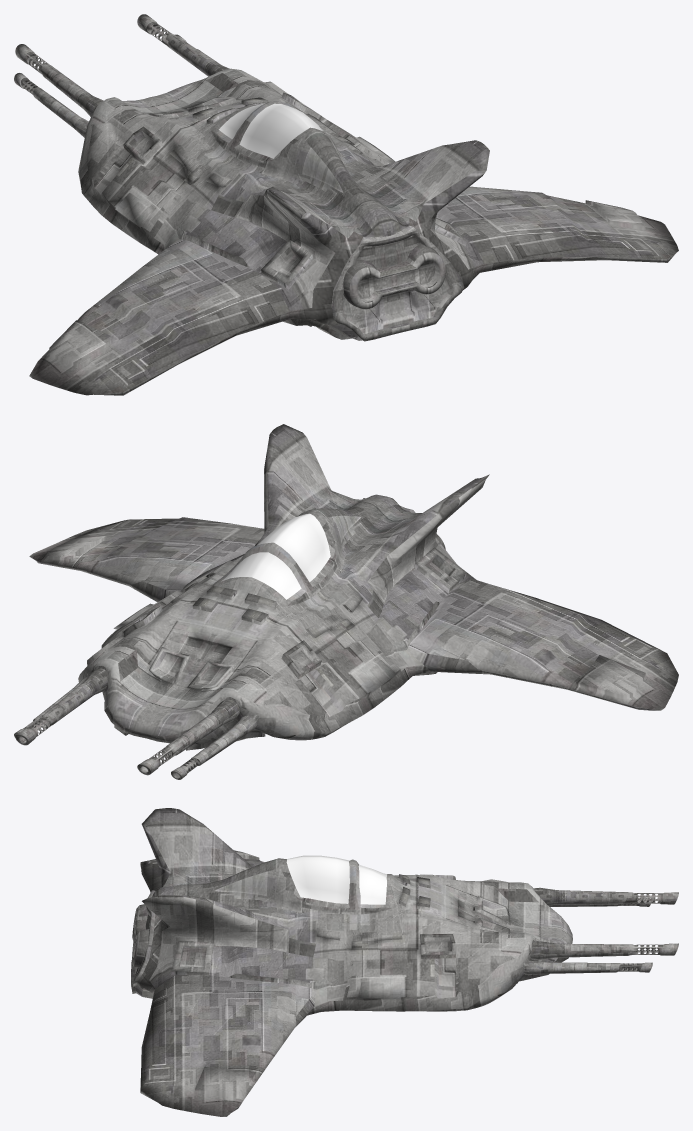
Rendered from small_sci_fi_fighter.glb.
3 views of the same model, one above another, from view 1: azimuth 30°, elevation 25°; view 2: azimuth 150°, elevation 25°; view 3: azimuth 270°, elevation 25° (orthographic). The views are drawn at different scales.
Visible parts, largest first — view 1: SmallSciFiFighterMesh; view 2: SmallSciFiFighterMesh; view 3: SmallSciFiFighterMesh.
Boxes of the visible parts, bbox=[...] form: SmallSciFiFighterMesh: bbox=[14, 14, 678, 395]; SmallSciFiFighterMesh: bbox=[14, 424, 678, 779]; SmallSciFiFighterMesh: bbox=[131, 808, 678, 1116].
Size of the model in its own units: 13.71 by 3.56 by 14.56.
Materials: 6 (3 with a texture image).
